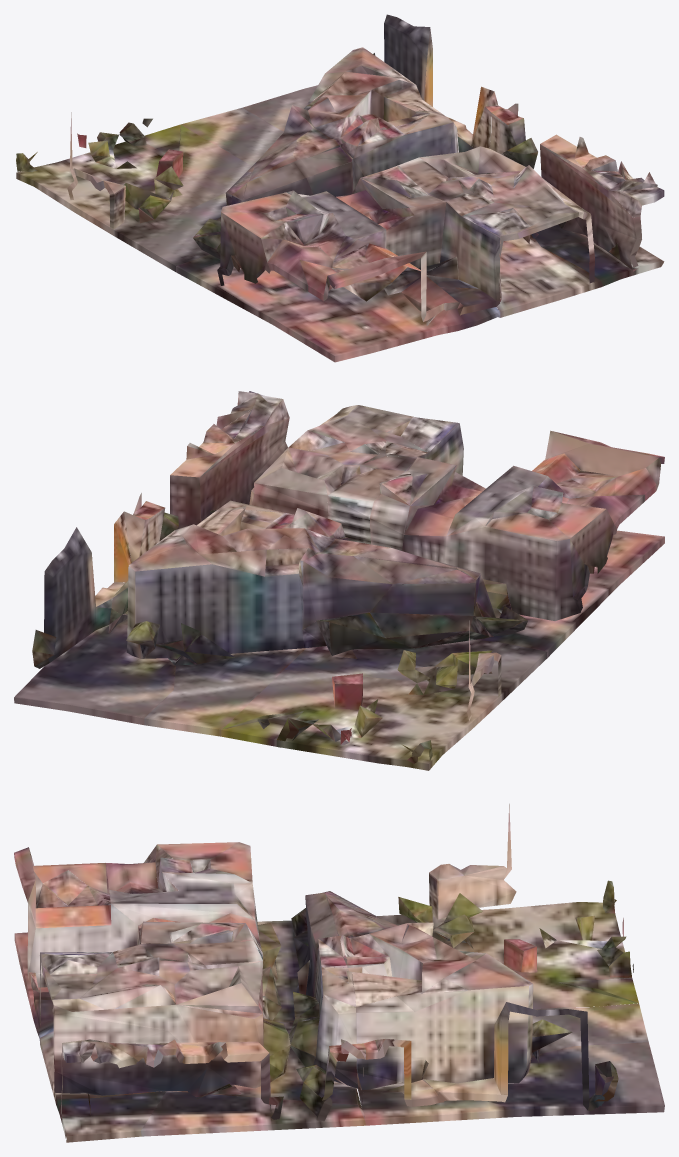
3 views of the same model, one above another, from view 1: azimuth 30°, elevation 25°; view 2: azimuth 150°, elevation 25°; view 3: azimuth 270°, elevation 25° (orthographic). The views are drawn at different scales.
Parts seen in each view (by area): view 1: Mesh_0; view 2: Mesh_0; view 3: Mesh_0.
Boxes of the visible parts, x1,y1,x2,y2 form: Mesh_0: [16, 14, 664, 362]; Mesh_0: [14, 391, 664, 770]; Mesh_0: [14, 803, 664, 1142].
Size of the model in its own units: 134 by 35.27 by 165.
2 materials, 2 textured.
